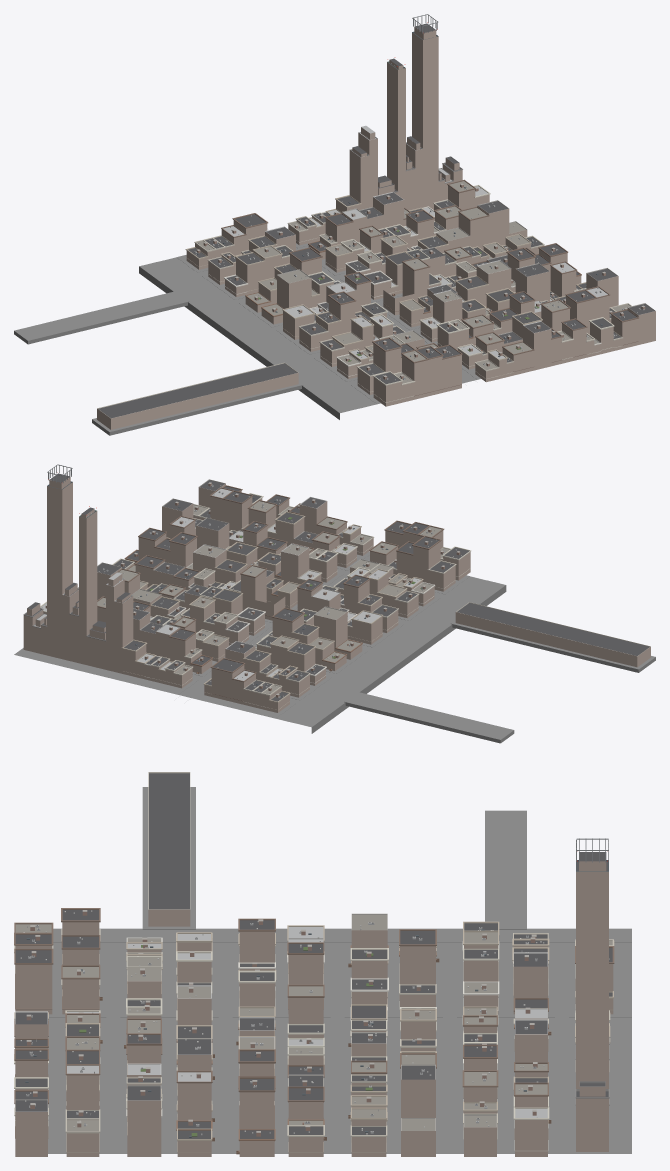
The picture shows the model from 3 angles, top to bottom: view 1: azimuth 30°, elevation 25°; view 2: azimuth 150°, elevation 25°; view 3: azimuth 270°, elevation 25°; orthographic projection. The views are drawn at different scales.
Parts seen in each view (by area): view 1: t05_facade, t05_roof, t05_detail, t05_ground; view 2: t05_facade, t05_roof, t05_ground, t05_detail; view 3: t05_ground, t05_facade, t05_roof, t05_detail.
Part boxes in pixels (x1,y1,x2,y2): t05_facade: (97, 26, 655, 429); t05_roof: (98, 14, 654, 418); t05_detail: (97, 31, 655, 418); t05_ground: (14, 240, 480, 435); t05_facade: (23, 476, 650, 712); t05_roof: (25, 464, 649, 701); t05_ground: (14, 551, 655, 743); t05_detail: (23, 479, 650, 710); t05_ground: (48, 787, 631, 1153); t05_facade: (15, 861, 613, 1156); t05_roof: (15, 773, 612, 1138); t05_detail: (14, 772, 614, 1154).
Bounding box in the file's own units: 624 × 232 × 458.
